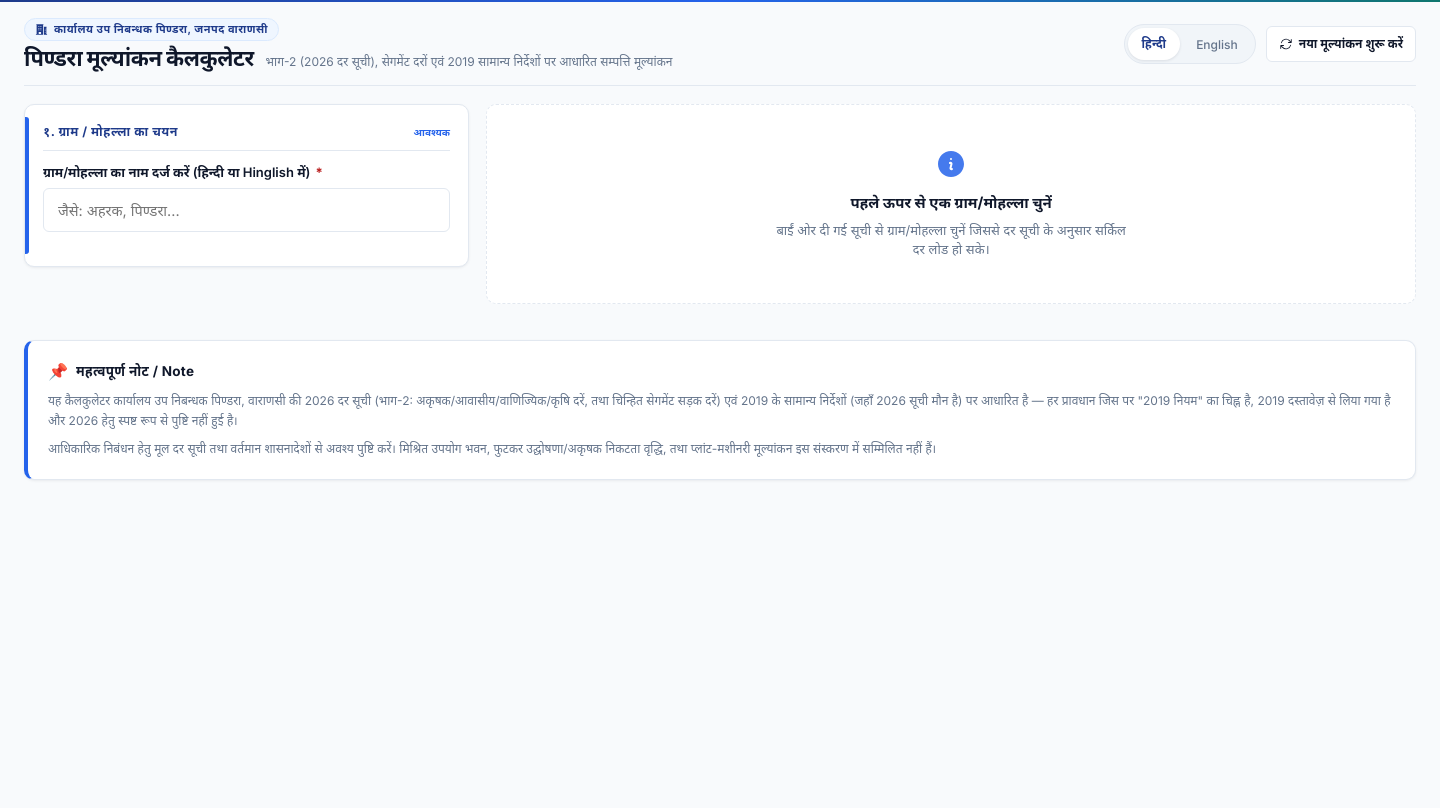
Test: App - end-to-end calculation flow › completes a full plot valuation: search village -> select -> pick type -> enter area -> calculate
// search and select a village by typing Hinglish
In the dropdown labelled "ग्राम/मोहल्ला का नाम दर्ज करें (हिन्दी या Hinglish में) *": (247, 210) [43,188,450,232], type "aharak"
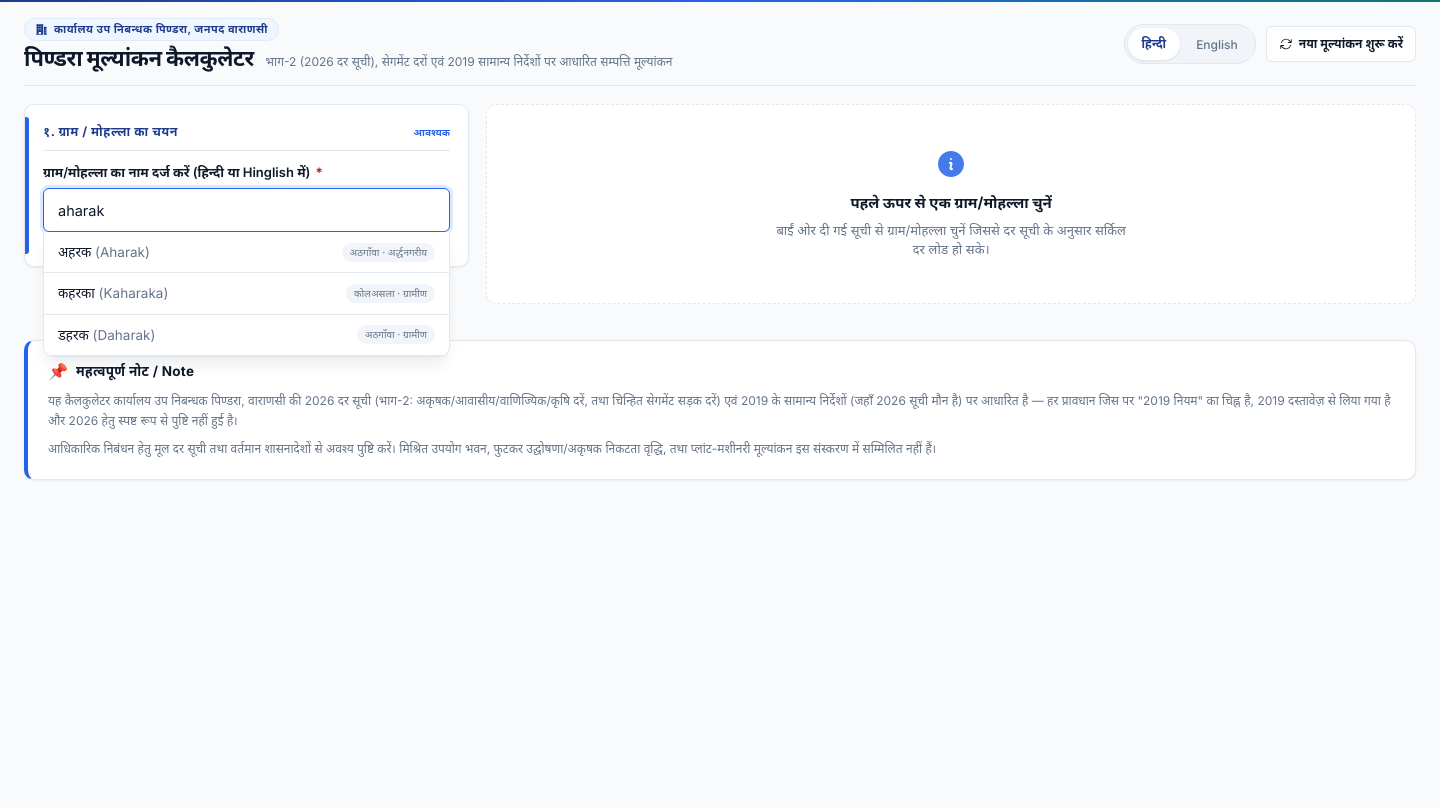
Click the option "अहरक (Aharak) अठगाँवा · अर्द्धनगरीय": click(75, 252) [44,232,449,273]
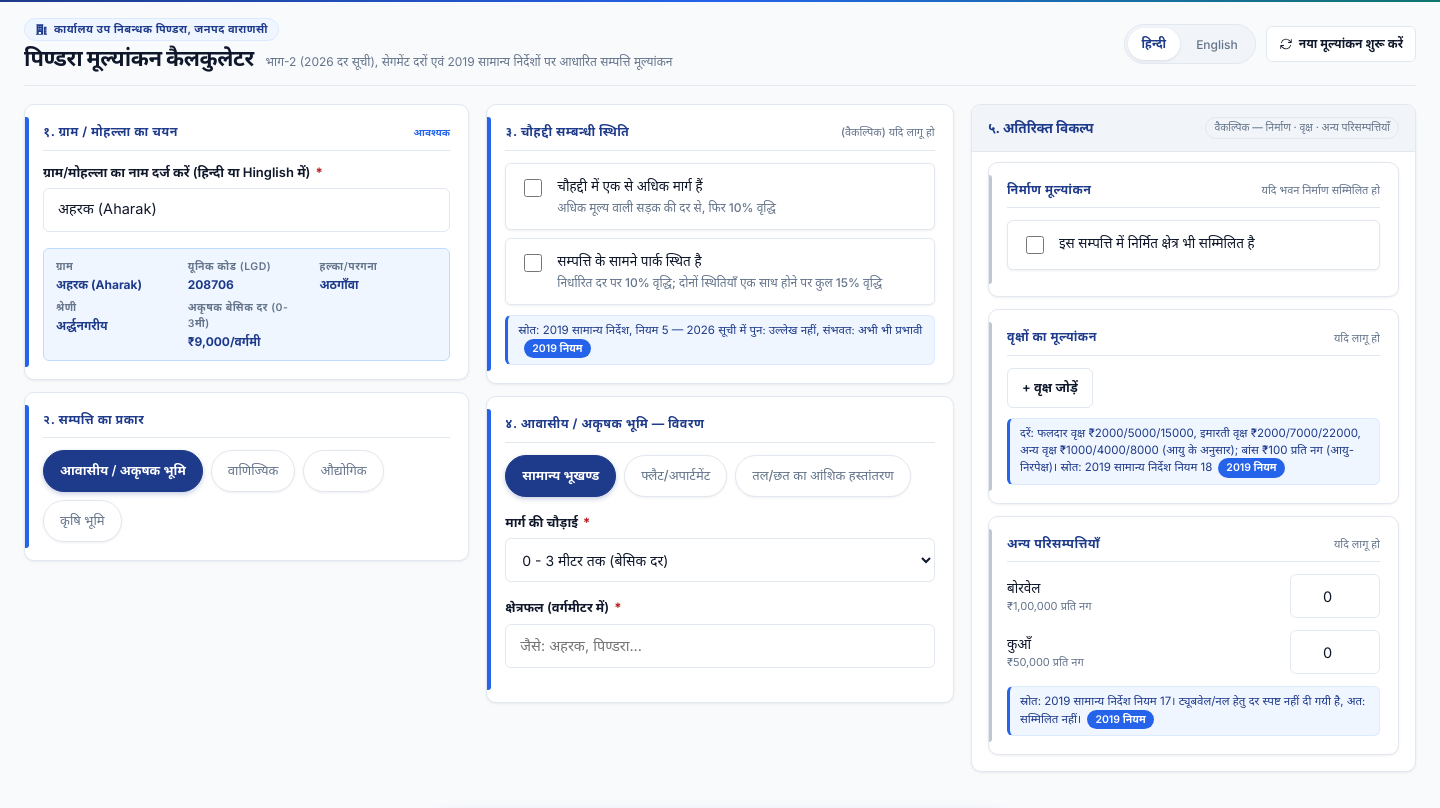
Now the text "अहरक (Aharak)" is shown, box [56,277,142,292]
// property type defaults to "Residential" -- enter area directly
In the number field labelled "क्षेत्रफल (वर्गमीटर में) *": (720, 646) [505,624,935,668], type "150"
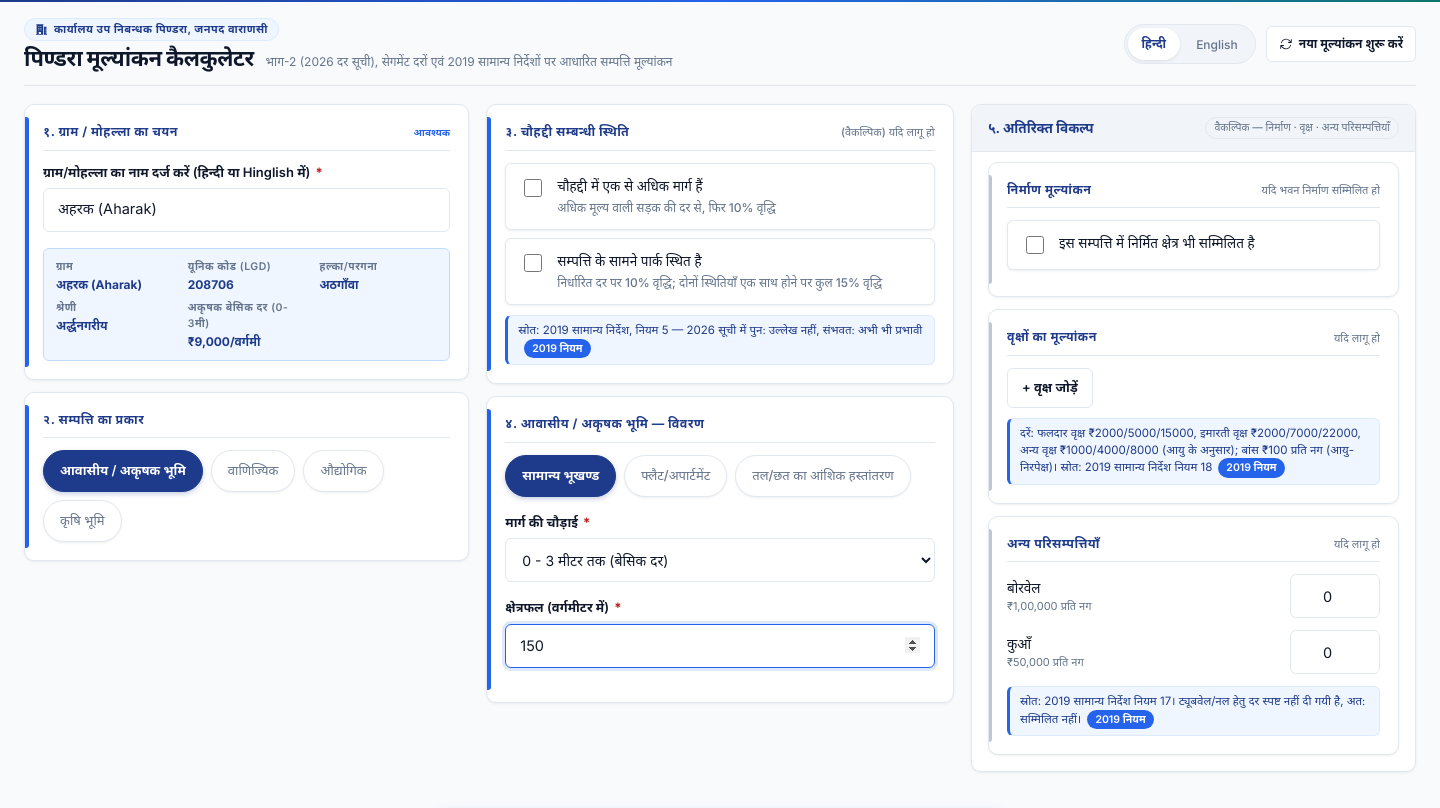
Select "9 से अधिक - 18 मीटर तक" in the dropdown labelled "मार्ग की चौड़ाई *": (720, 560) [505,538,935,582]
(page scrolled)
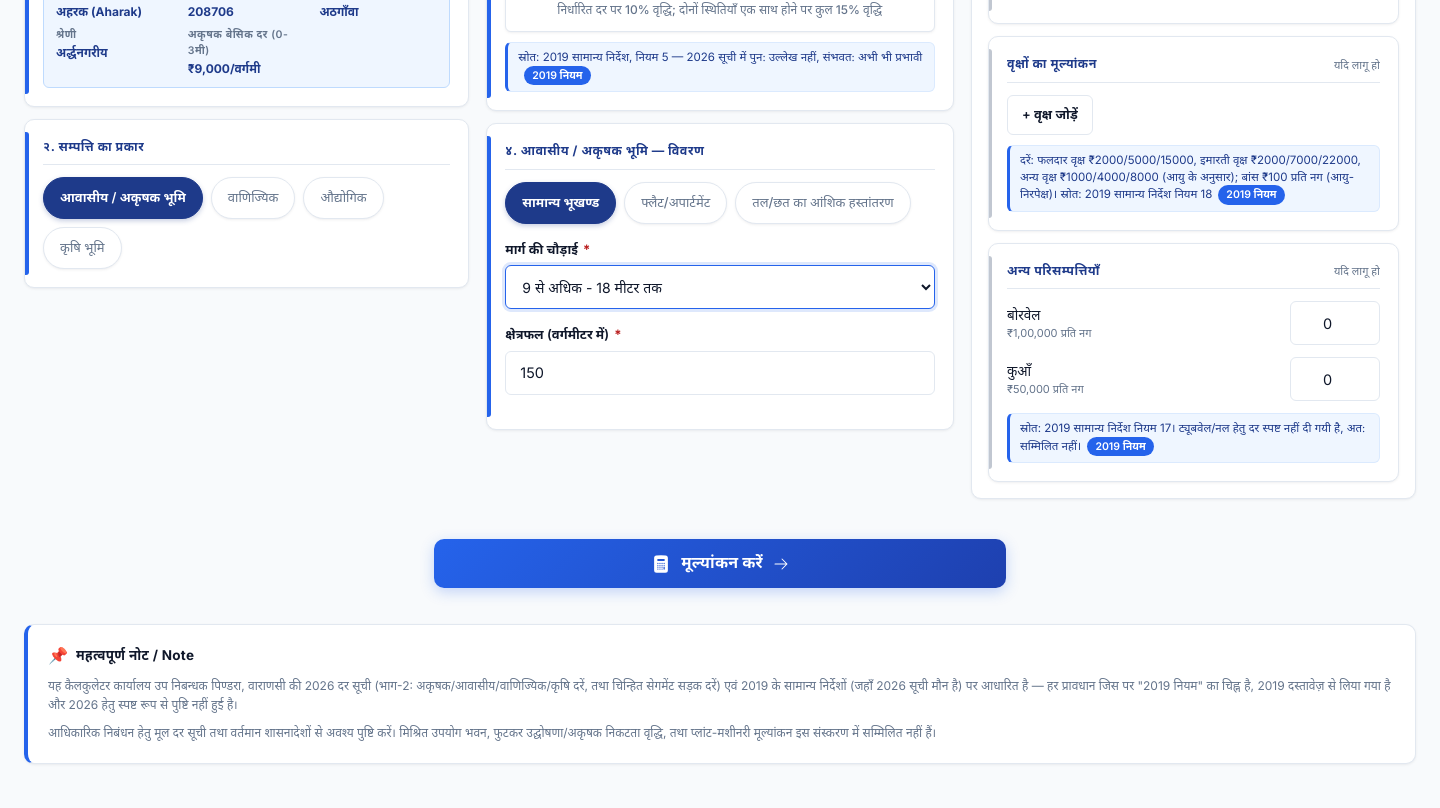
Click the button "मूल्यांकन करें": click(720, 564) [434,539,1006,588]
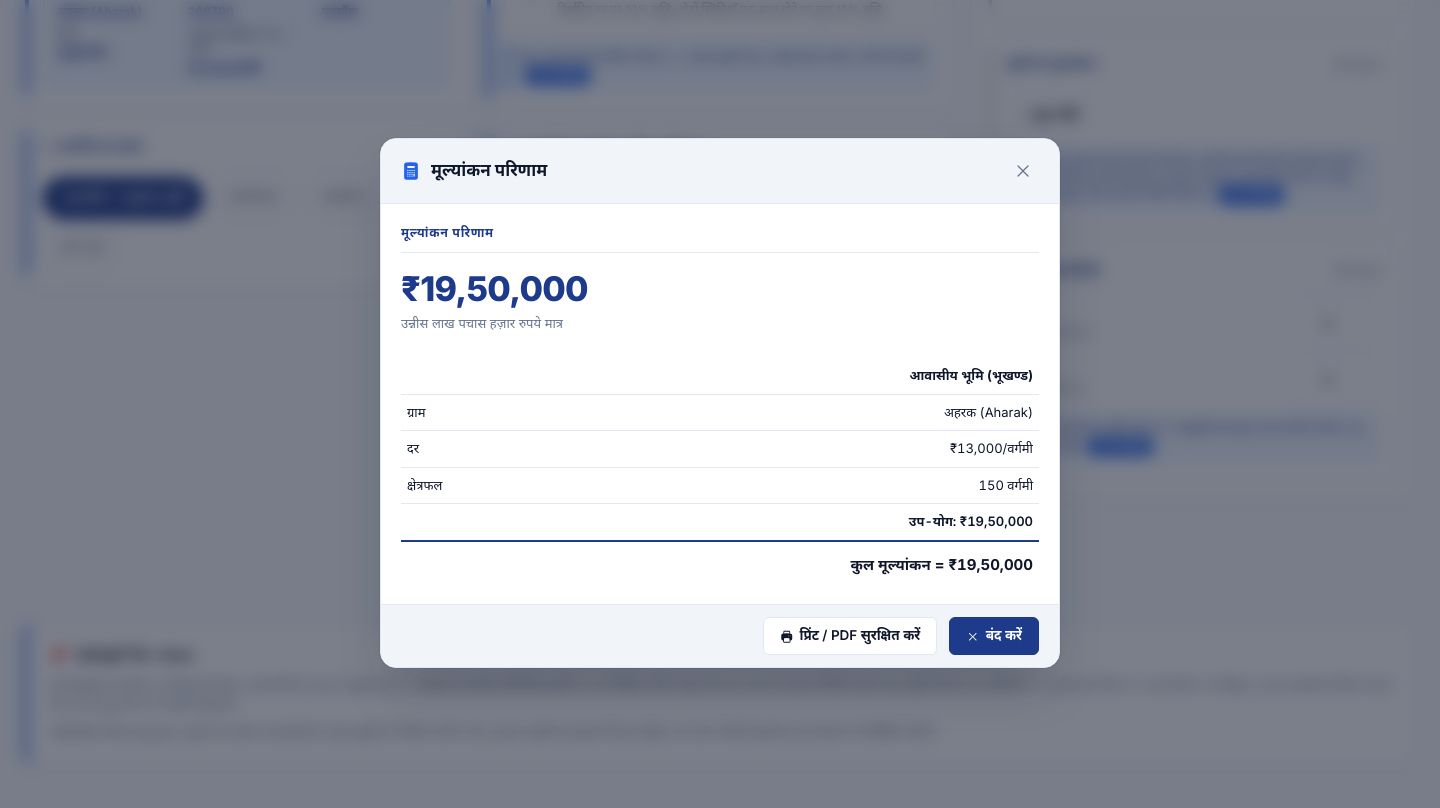
Now the text "₹19,50,000" is shown, box [401,268,588,309]
